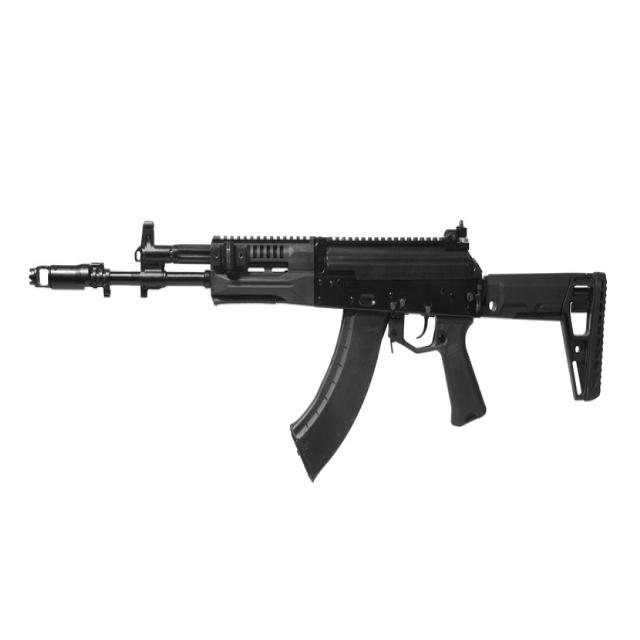firearm: (29, 219, 608, 487)
